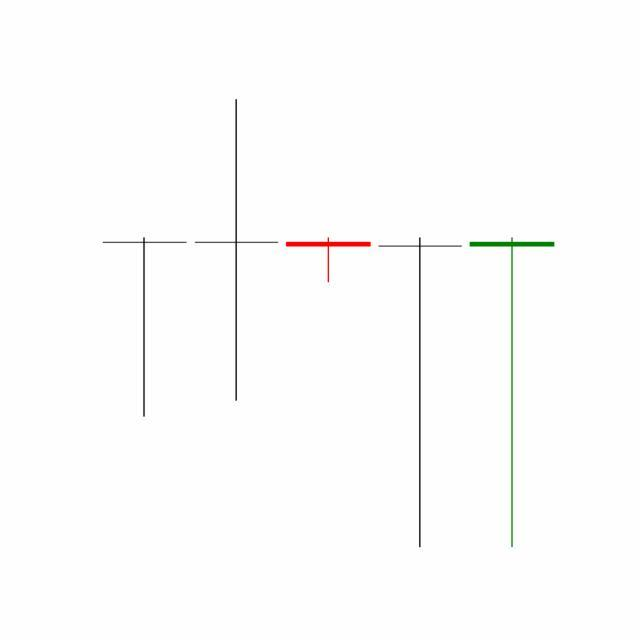Dragonfly Doji: (374, 235, 468, 552)
